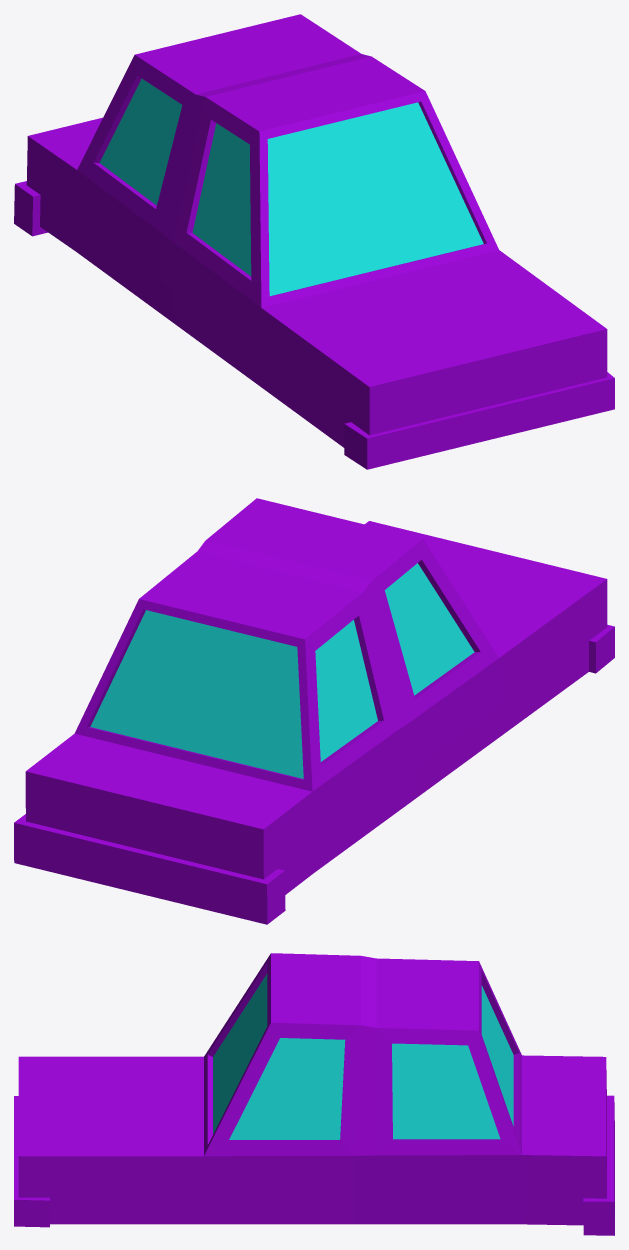
The model's file is coche2.glb.
The picture shows the model from 3 angles, top to bottom: view 1: azimuth 30°, elevation 25°; view 2: azimuth 150°, elevation 25°; view 3: azimuth 270°, elevation 25°; orthographic projection. The views are drawn at different scales.
Visible parts, largest first — view 1: car; view 2: car; view 3: car.
Part boxes in pixels (box(x1,y1,x2,y2)): car: box(14, 14, 614, 469); car: box(14, 498, 614, 924); car: box(14, 953, 614, 1235).
Size of the model in its own units: 2.13 by 1.83 by 5.1.
